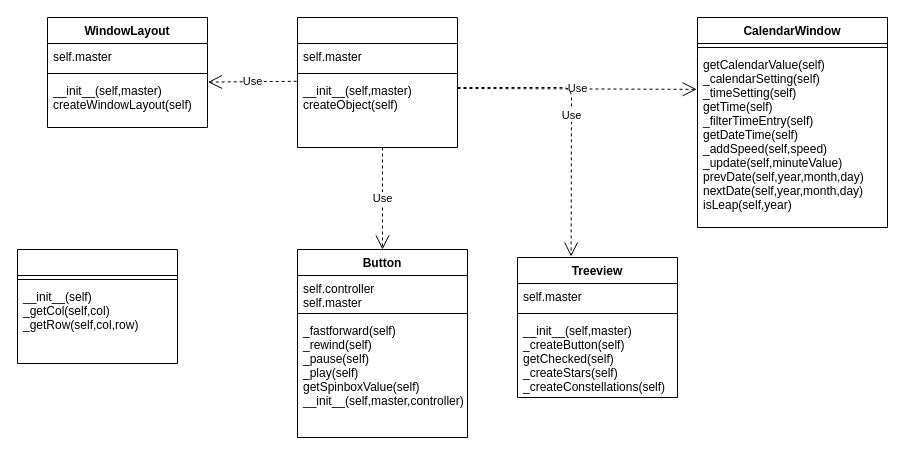
Image size: 905x458. Some labels were removed from this diagram. The box of each missing label's shape, as (x1, y1, x2, y2) in pixels:
Handler: (16, 248, 178, 364)
MainWindow: (296, 16, 458, 148)
